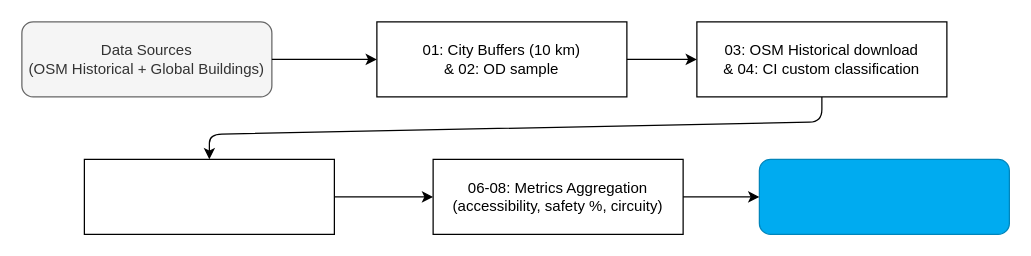
Image size: 1031x256. Some labels were removed from this diagram. Each missing label, with the centre of its shape:
"05: r5r Routing Engine LTS 1-4 Constraints 5 differernt years" goes at pixel 208 196.
"City-Year Panel Data Route-Year Panel Data" goes at pixel 883 196.
